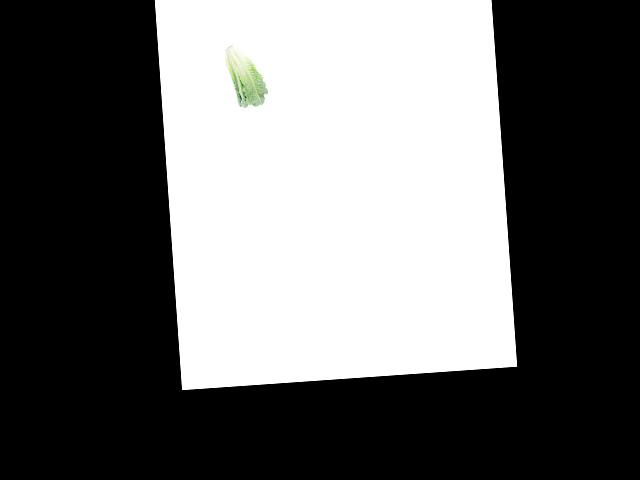lettuce: (222, 39, 267, 110)
